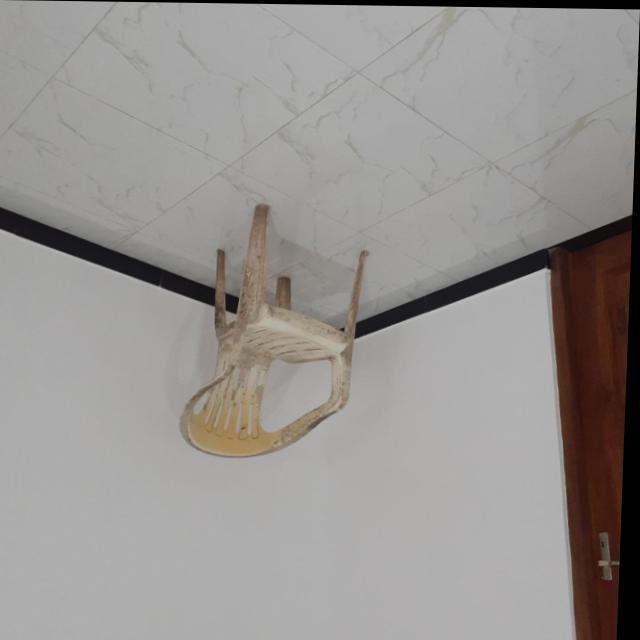Chair: (183, 200, 376, 461)
